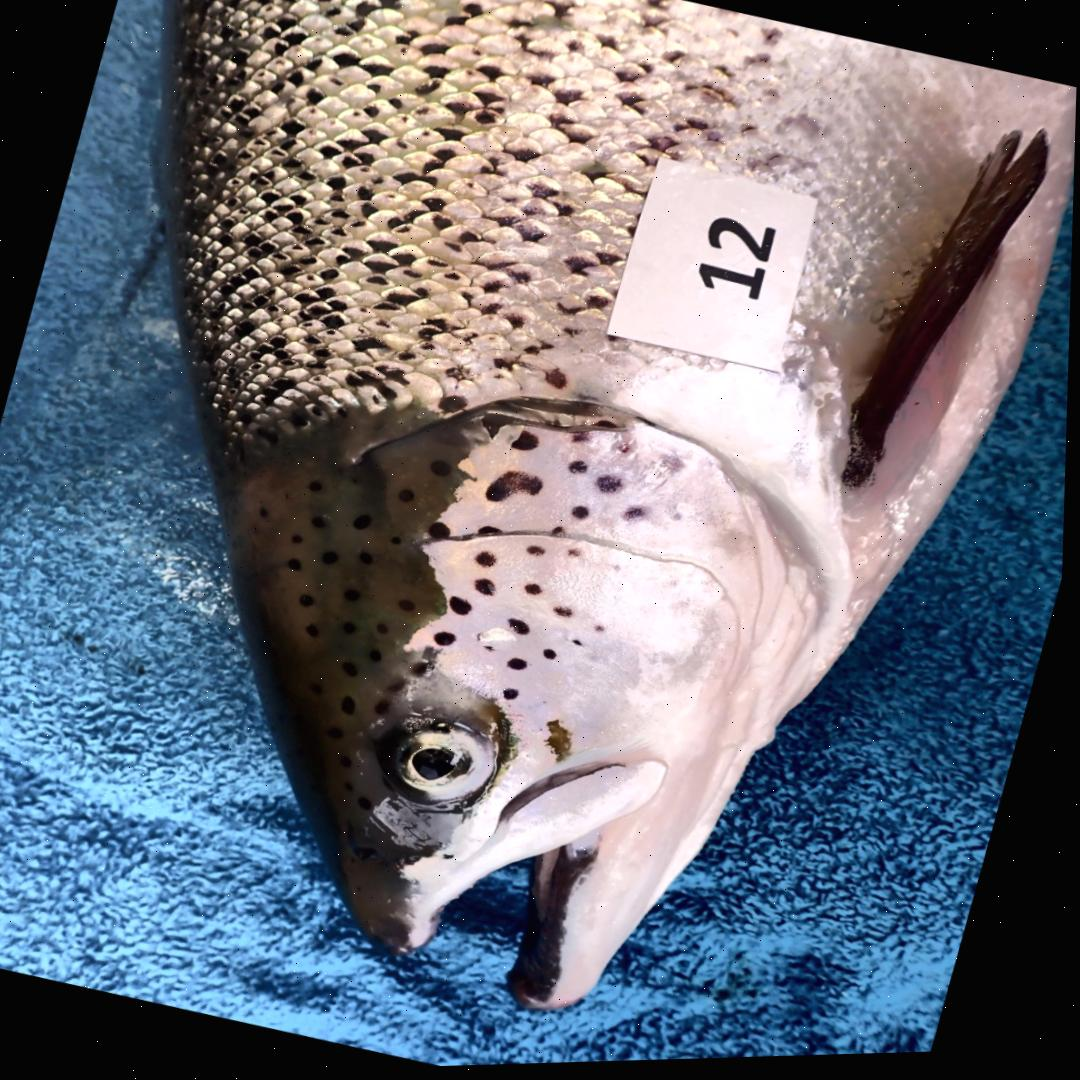spot: (489, 472, 546, 504), (660, 455, 690, 476), (597, 477, 625, 497), (515, 434, 541, 453), (451, 598, 477, 616), (431, 523, 454, 542), (625, 508, 649, 524), (438, 632, 460, 649), (477, 580, 498, 597), (512, 620, 533, 637), (478, 553, 499, 570), (570, 433, 595, 447), (616, 441, 635, 457), (570, 462, 591, 476), (510, 660, 531, 673), (574, 508, 593, 522), (557, 608, 577, 620), (480, 528, 504, 538), (529, 547, 549, 558), (527, 586, 545, 598), (551, 528, 569, 540), (507, 690, 523, 703), (570, 549, 587, 560), (546, 651, 561, 662), (614, 566, 626, 574), (597, 628, 607, 635), (487, 648, 498, 654), (576, 642, 586, 648)
